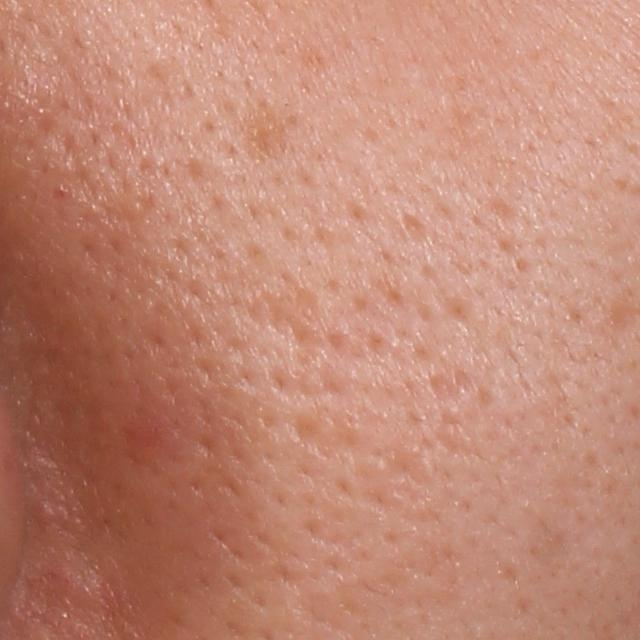atrophic_scar: (422, 365, 479, 453), (285, 586, 345, 630), (607, 296, 640, 336)
